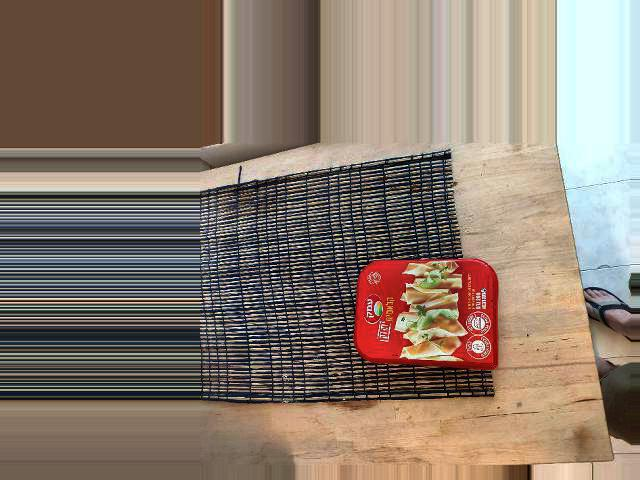cheese: (349, 251, 510, 369)
